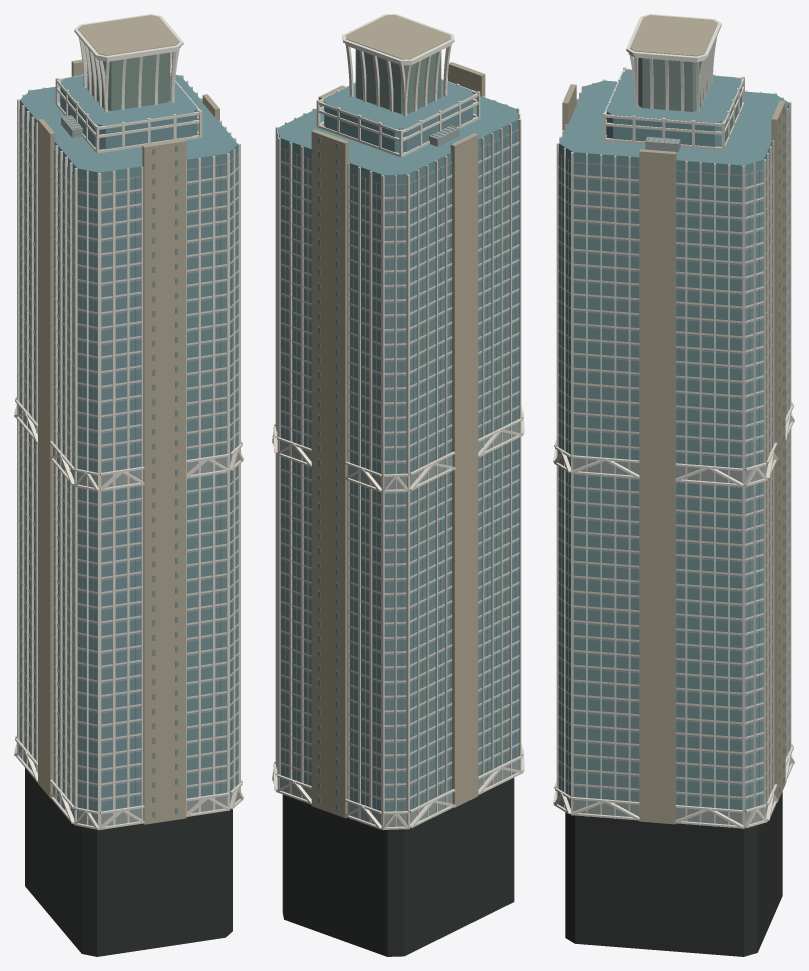
The model's file is bespoke-hyperion-c.glb.
The picture shows the model from 3 angles, left to right: view 1: azimuth 30°, elevation 25°; view 2: azimuth 150°, elevation 25°; view 3: azimuth 270°, elevation 25°; orthographic projection.
Parts seen in each view (by area): view 1: C_03_blue_grey_window_divisions003, C_02_ivory_floor_and_column_frames, C_04_warm_stone_central_axis003_1, C_01_chamfered_corner_wings003_1, C_03_blue_grey_window_divisions003_1, C_01_chamfered_corner_wings003, C_03_blue_grey_window_divisions003_2, C_06_flared_colonnade_and_stepped_penthouse003_1, C_05_engineer_documented_white_diagonal_belts003, C_06_flared_colonnade_and_stepped_penthouse003_4, C_06_flared_colonnade_and_stepped_penthouse003_5, C_06_flared_colonnade_and_stepped_penthouse003_2 (+3 smaller); view 2: C_03_blue_grey_window_divisions003, C_02_ivory_floor_and_column_frames, C_04_warm_stone_central_axis003_1, C_01_chamfered_corner_wings003_1, C_03_blue_grey_window_divisions003_1, C_03_blue_grey_window_divisions003_2, C_01_chamfered_corner_wings003, C_06_flared_colonnade_and_stepped_penthouse003_1, C_05_engineer_documented_white_diagonal_belts003, C_06_flared_colonnade_and_stepped_penthouse003_4, C_06_flared_colonnade_and_stepped_penthouse003_5, C_05_engineer_documented_white_diagonal_belts003_1 (+3 smaller); view 3: C_03_blue_grey_window_divisions003, C_02_ivory_floor_and_column_frames, C_04_warm_stone_central_axis003_1, C_01_chamfered_corner_wings003_1, C_03_blue_grey_window_divisions003_1, C_01_chamfered_corner_wings003, C_03_blue_grey_window_divisions003_2, C_06_flared_colonnade_and_stepped_penthouse003_1, C_05_engineer_documented_white_diagonal_belts003, C_05_engineer_documented_white_diagonal_belts003_1, C_06_flared_colonnade_and_stepped_penthouse003_2, C_06_flared_colonnade_and_stepped_penthouse003_4 (+3 smaller).
Boxes of the visible parts, x1=… form: C_03_blue_grey_window_divisions003: x1=19, y1=110, x2=238, y2=811; C_02_ivory_floor_and_column_frames: x1=17, y1=72, x2=240, y2=829; C_04_warm_stone_central_axis003_1: x1=38, y1=59, x2=219, y2=824; C_01_chamfered_corner_wings003_1: x1=25, y1=768, x2=232, y2=956; C_03_blue_grey_window_divisions003_1: x1=19, y1=112, x2=238, y2=810; C_01_chamfered_corner_wings003: x1=20, y1=73, x2=238, y2=805; C_03_blue_grey_window_divisions003_2: x1=19, y1=109, x2=238, y2=801; C_06_flared_colonnade_and_stepped_penthouse003_1: x1=60, y1=75, x2=197, y2=149; C_05_engineer_documented_white_diagonal_belts003: x1=14, y1=397, x2=243, y2=829; C_06_flared_colonnade_and_stepped_penthouse003_4: x1=74, y1=14, x2=183, y2=112; C_06_flared_colonnade_and_stepped_penthouse003_5: x1=87, y1=49, x2=170, y2=110; C_06_flared_colonnade_and_stepped_penthouse003_2: x1=78, y1=15, x2=179, y2=55; C_03_blue_grey_window_divisions003: x1=280, y1=130, x2=518, y2=811; C_02_ivory_floor_and_column_frames: x1=275, y1=96, x2=521, y2=830; C_04_warm_stone_central_axis003_1: x1=311, y1=62, x2=485, y2=818; C_01_chamfered_corner_wings003_1: x1=282, y1=778, x2=514, y2=956; C_03_blue_grey_window_divisions003_1: x1=280, y1=131, x2=518, y2=811; C_03_blue_grey_window_divisions003_2: x1=280, y1=129, x2=518, y2=801; C_01_chamfered_corner_wings003: x1=278, y1=94, x2=518, y2=800; C_06_flared_colonnade_and_stepped_penthouse003_1: x1=324, y1=79, x2=472, y2=152; C_05_engineer_documented_white_diagonal_belts003: x1=272, y1=407, x2=524, y2=829; C_06_flared_colonnade_and_stepped_penthouse003_4: x1=342, y1=14, x2=454, y2=116; C_06_flared_colonnade_and_stepped_penthouse003_5: x1=355, y1=49, x2=441, y2=113; C_05_engineer_documented_white_diagonal_belts003_1: x1=276, y1=422, x2=519, y2=826; C_03_blue_grey_window_divisions003: x1=558, y1=114, x2=789, y2=809; C_02_ivory_floor_and_column_frames: x1=556, y1=79, x2=791, y2=828; C_04_warm_stone_central_axis003_1: x1=562, y1=84, x2=785, y2=824; C_01_chamfered_corner_wings003_1: x1=565, y1=792, x2=782, y2=956; C_03_blue_grey_window_divisions003_1: x1=559, y1=115, x2=789, y2=809; C_01_chamfered_corner_wings003: x1=559, y1=80, x2=788, y2=798; C_03_blue_grey_window_divisions003_2: x1=558, y1=113, x2=789, y2=800; C_06_flared_colonnade_and_stepped_penthouse003_1: x1=606, y1=70, x2=741, y2=146; C_05_engineer_documented_white_diagonal_belts003: x1=553, y1=402, x2=794, y2=828; C_05_engineer_documented_white_diagonal_belts003_1: x1=558, y1=407, x2=790, y2=825; C_06_flared_colonnade_and_stepped_penthouse003_2: x1=630, y1=15, x2=717, y2=56; C_06_flared_colonnade_and_stepped_penthouse003_4: x1=626, y1=14, x2=721, y2=113.
Size of the model in its own units: 44.03 by 201 by 50.02.
